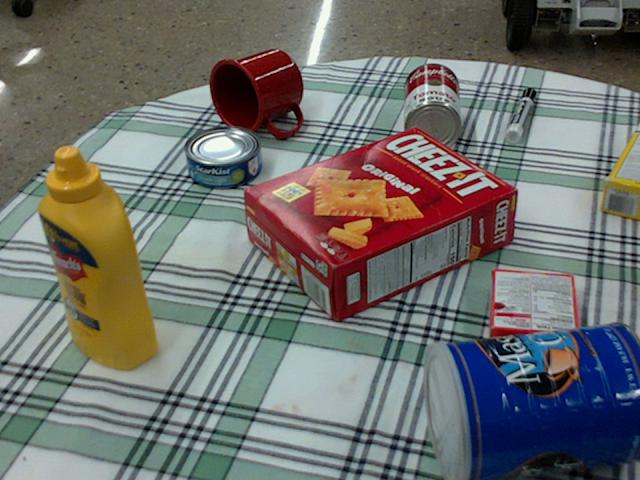cracker_box: (244, 128, 517, 321)
gelatin_box: (490, 268, 579, 353)
large_marker: (504, 88, 536, 140)
master_chef_can: (423, 319, 639, 479)
mug: (208, 49, 302, 135)
mustard_bottle: (38, 146, 158, 368)
sugar_box: (603, 121, 639, 220)
tomato_soup_can: (403, 62, 460, 150)
tuna_fish_can: (182, 125, 260, 187)
